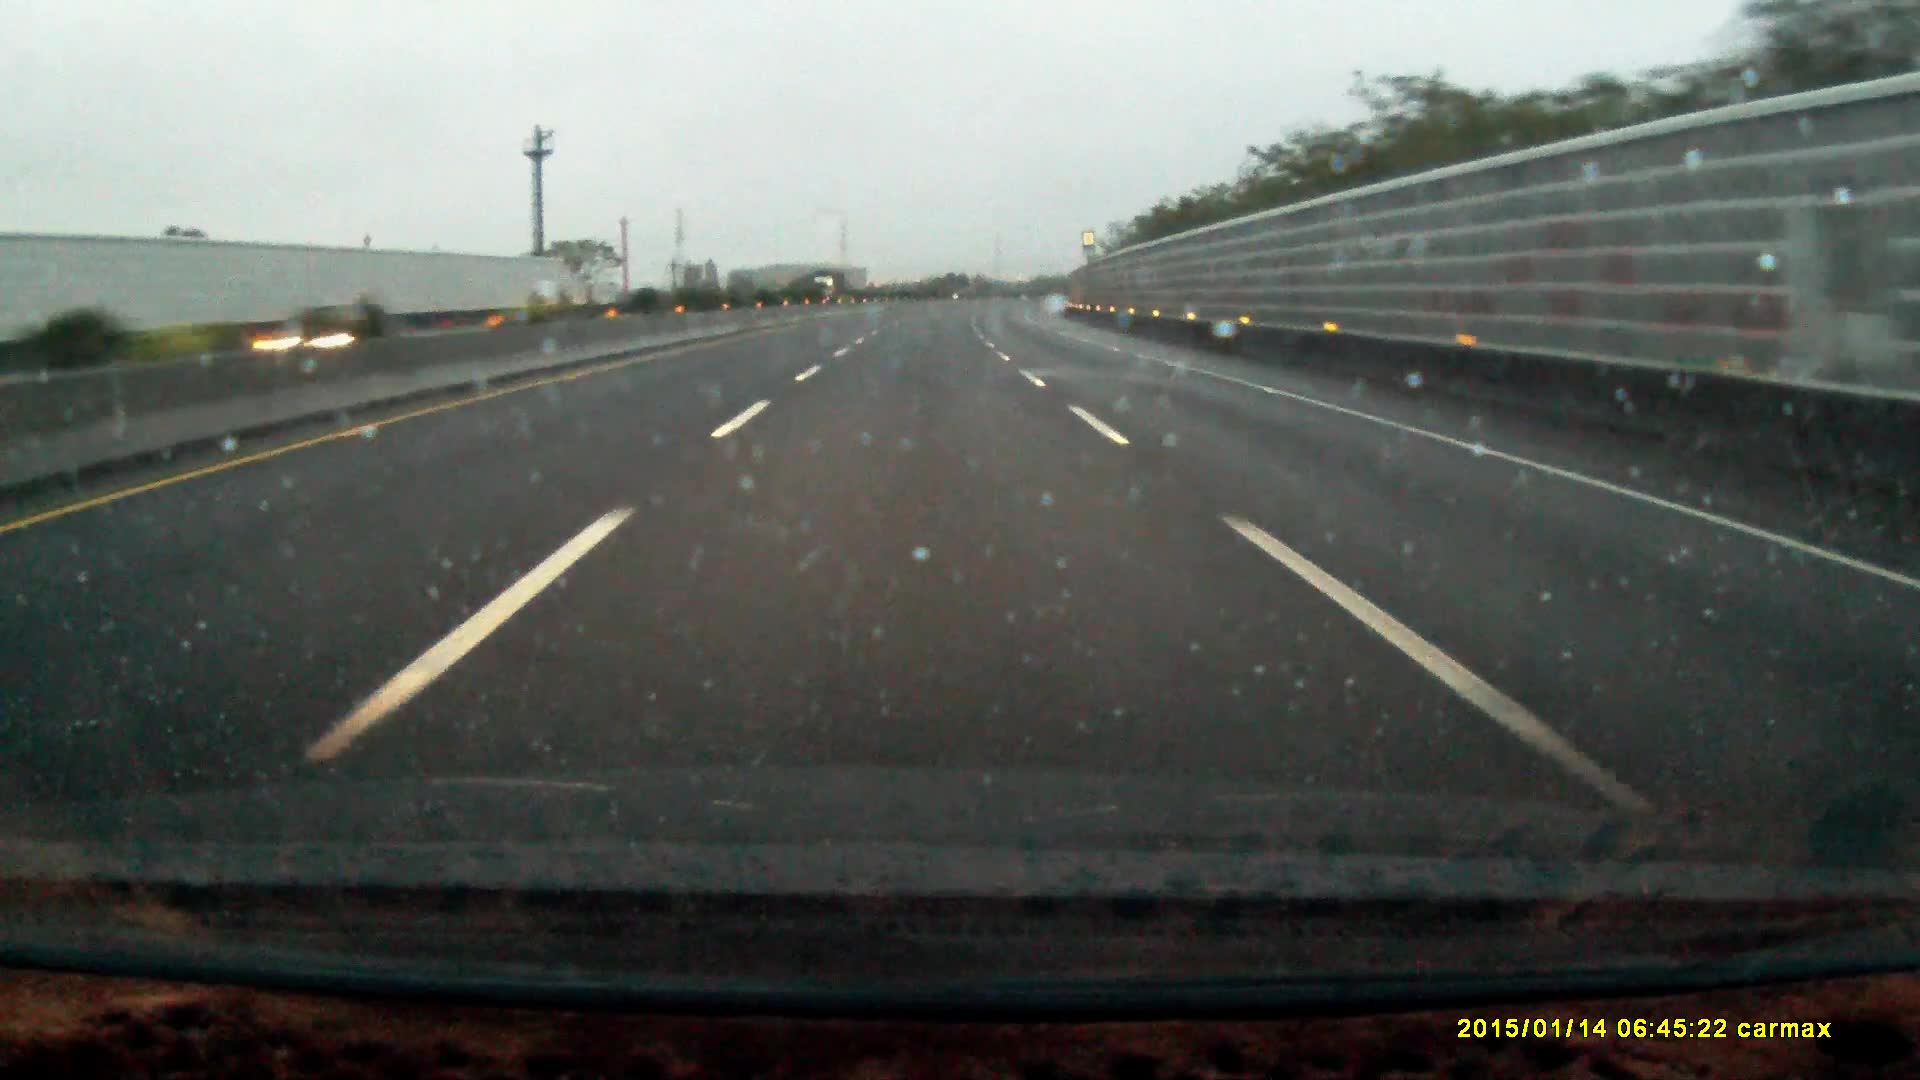vehicle: (248, 302, 397, 382), (811, 268, 847, 303)
